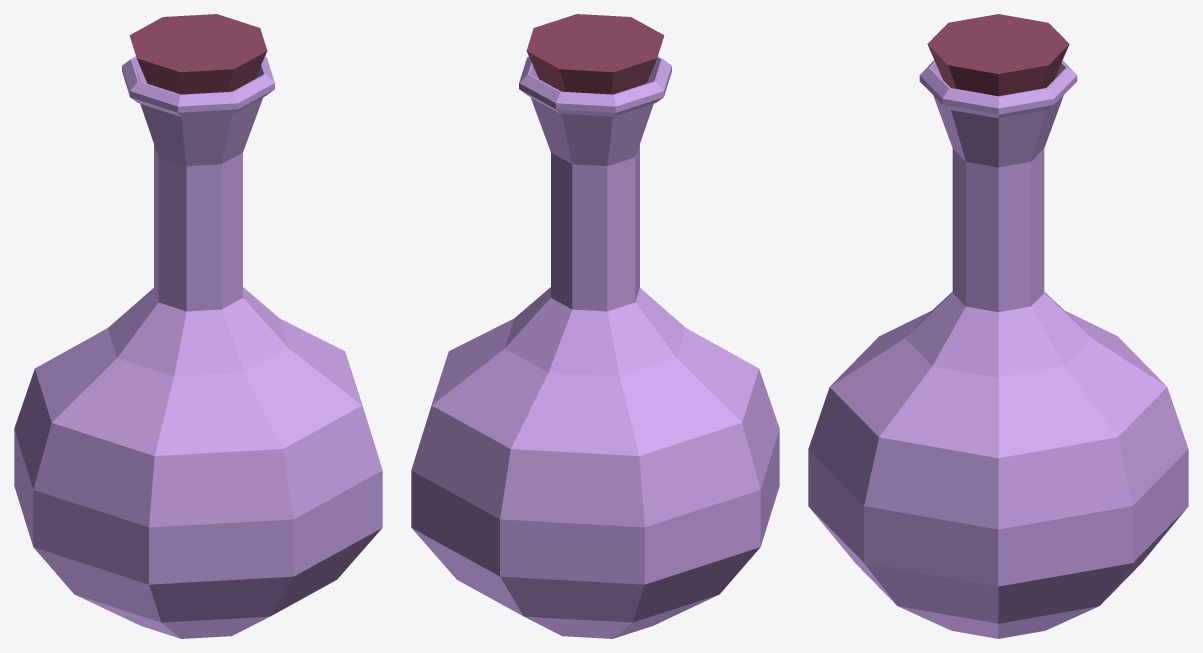
The model's file is PotionBottle2.fbx.
3 renders of one model, left to right at view 1: azimuth 30°, elevation 25°; view 2: azimuth 150°, elevation 25°; view 3: azimuth 270°, elevation 25°, orthographic.
Visible parts, largest first — view 1: Circle, Circle.001; view 2: Circle, Circle.001; view 3: Circle, Circle.001.
Part boxes in pixels (bbox=[...]): Circle: bbox=[14, 56, 382, 638]; Circle.001: bbox=[129, 14, 267, 94]; Circle: bbox=[411, 56, 779, 638]; Circle.001: bbox=[526, 14, 664, 94]; Circle: bbox=[808, 60, 1188, 638]; Circle.001: bbox=[927, 14, 1069, 96].
Bounding box in the file's own units: 404 × 664 × 404.
